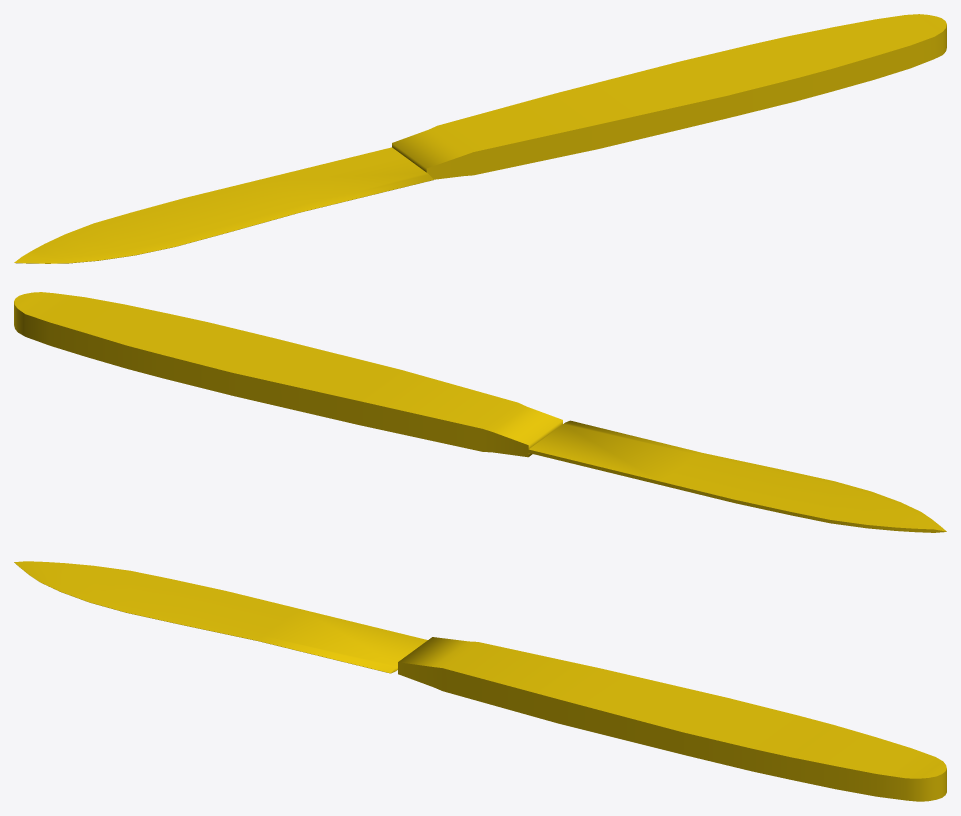
The model's file is SM_Knife_18.FBX.
3 renders of one model, top to bottom at view 1: azimuth 30°, elevation 25°; view 2: azimuth 150°, elevation 25°; view 3: azimuth 330°, elevation 25°, orthographic.
Visible parts, largest first — view 1: Knife_18; view 2: Knife_18; view 3: Knife_18.
Part boxes in pixels (<box>): Knife_18: <box>14,14,946,263</box>; Knife_18: <box>14,292,946,532</box>; Knife_18: <box>14,561,946,801</box>.
Size of the model in its own units: 19.52 by 0.491 by 1.87.
